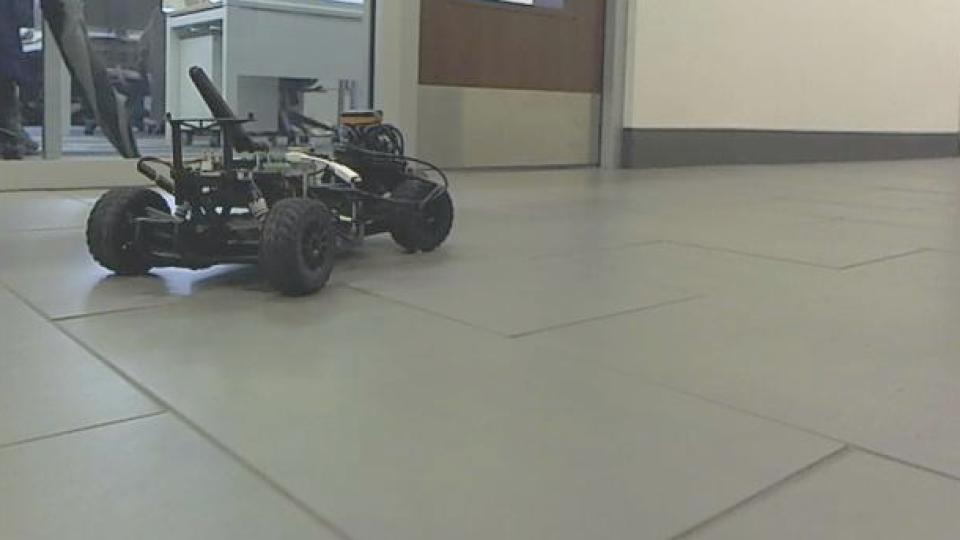car: (84, 56, 458, 302)
